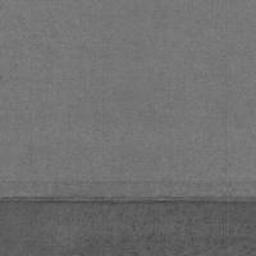Welding line: (0, 195, 256, 209)
